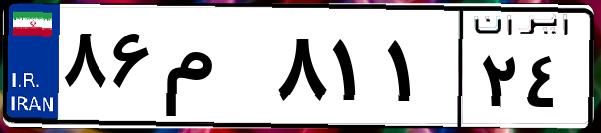1: (385, 28, 445, 110), (330, 28, 385, 110)
2: (475, 38, 525, 113)
4: (525, 38, 570, 115)
6: (110, 28, 158, 98)
8: (270, 28, 330, 110), (57, 26, 110, 100)
م: (158, 20, 270, 120)
